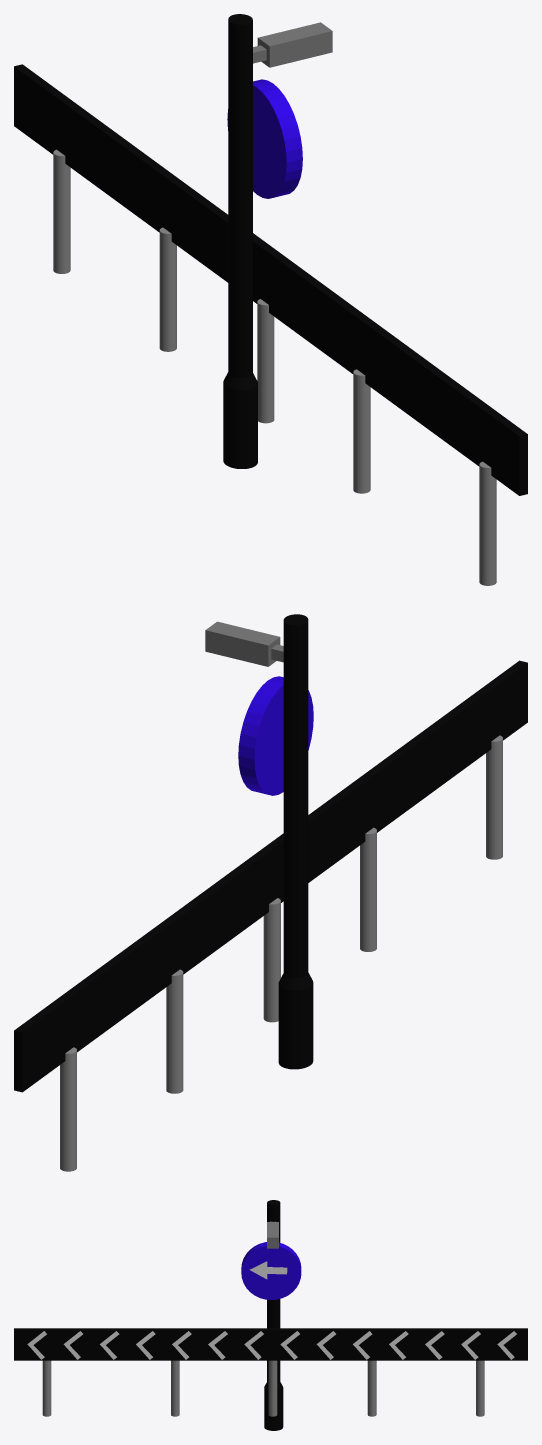
File: GoLeftLargeRoundabout.fbx
3 views of the same model, one above another, from view 1: azimuth 30°, elevation 25°; view 2: azimuth 150°, elevation 25°; view 3: azimuth 270°, elevation 25° (orthographic). The views are drawn at different scales.
Parts seen in each view (by area): view 1: Cube.001, Cylinder, Circle, Cube, Cylinder.003, Cylinder.001, Cylinder.004, Cylinder.005, Cylinder.002; view 2: Cube.001, Cylinder, Circle, Cube, Cylinder.003, Cylinder.002, Cylinder.004, Cylinder.005, Cylinder.001; view 3: Cube.001, Chevrons, Circle, Cylinder, Cylinder.003, Cylinder.002, Cylinder.005, Cylinder.001, Cylinder.004, GOLEFTARROW, Cube.
Boxes of the visible parts, x1,y1,x2,y2 form: Cube.001: (14, 64, 527, 495); Cylinder: (223, 14, 257, 468); Circle: (227, 79, 302, 198); Cube: (253, 22, 332, 67); Cylinder.003: (159, 227, 176, 351); Cylinder.001: (353, 369, 370, 493); Cylinder.004: (53, 149, 70, 273); Cylinder.005: (479, 461, 496, 585); Cylinder.002: (257, 299, 274, 423); Cube.001: (14, 660, 527, 1092); Cylinder: (278, 614, 313, 1069); Circle: (238, 676, 313, 795); Cube: (205, 621, 283, 666); Cylinder.003: (166, 969, 183, 1093); Cylinder.002: (263, 898, 280, 1022); Cylinder.004: (60, 1047, 76, 1171); Cylinder.005: (486, 735, 502, 859); Cylinder.001: (360, 827, 376, 951); Cube.001: (14, 1328, 527, 1360); Chevrons: (27, 1331, 516, 1359); Circle: (241, 1242, 301, 1299); Cylinder: (264, 1200, 283, 1430); Cylinder.003: (367, 1360, 376, 1416); Cylinder.002: (268, 1360, 277, 1416); Cylinder.005: (42, 1360, 51, 1416); Cylinder.001: (171, 1360, 179, 1416); Cylinder.004: (476, 1360, 484, 1416); GOLEFTARROW: (249, 1261, 287, 1279); Cube: (267, 1221, 278, 1248).
Bounding box in the file's own units: 101 × 428 × 887.
